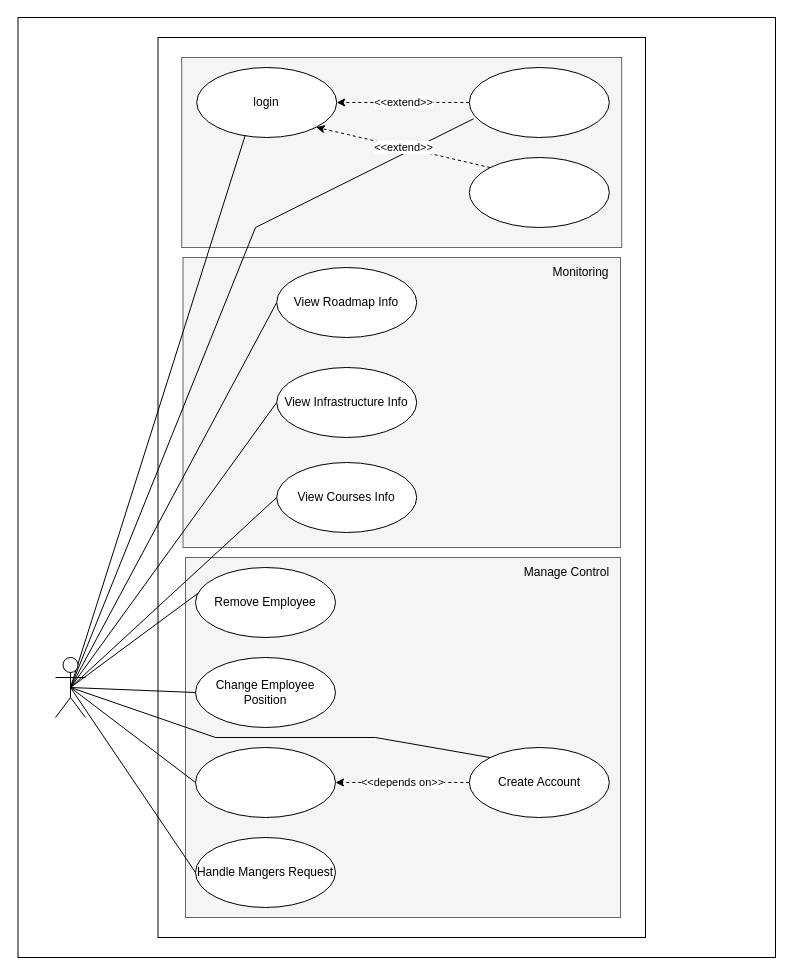
This 793x975 diagram has some shape labels left out. Each missing label, with the centre of its shape:
"Handle Employees Registration Requests" belongs at point (265, 782).
"logout" belongs at point (538, 192).
"Manage Profile" belongs at point (538, 102).
"Manager" belongs at point (70, 687).
